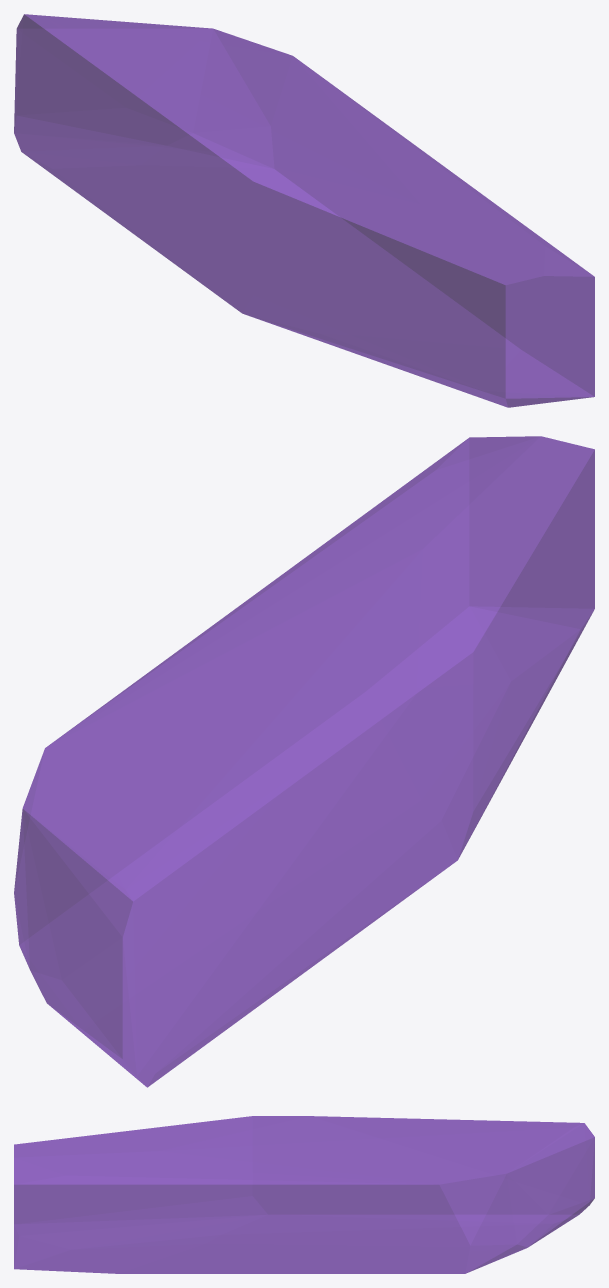
3 views of the same model, one above another, from view 1: azimuth 30°, elevation 25°; view 2: azimuth 150°, elevation 25°; view 3: azimuth 270°, elevation 25° (orthographic). The views are drawn at different scales.
Visible parts, largest first — view 1: Shape_IndexedFaceSet.022_Shape_IndexedFaceSet.10127; view 2: Shape_IndexedFaceSet.022_Shape_IndexedFaceSet.10127; view 3: Shape_IndexedFaceSet.022_Shape_IndexedFaceSet.10127.
Part boxes in pixels (<box>): Shape_IndexedFaceSet.022_Shape_IndexedFaceSet.10127: <box>14,14,594,407</box>; Shape_IndexedFaceSet.022_Shape_IndexedFaceSet.10127: <box>14,436,594,1087</box>; Shape_IndexedFaceSet.022_Shape_IndexedFaceSet.10127: <box>14,1116,594,1273</box>.
Size of the model in its own units: 0.00986 by 0.00803 by 0.0409.
